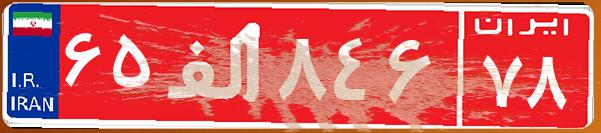4: (330, 28, 385, 110)
5: (110, 28, 158, 105)
6: (385, 28, 445, 110), (57, 26, 110, 107)
7: (475, 38, 525, 113)
8: (273, 28, 330, 110), (525, 38, 570, 115)
الف: (158, 15, 273, 115)
